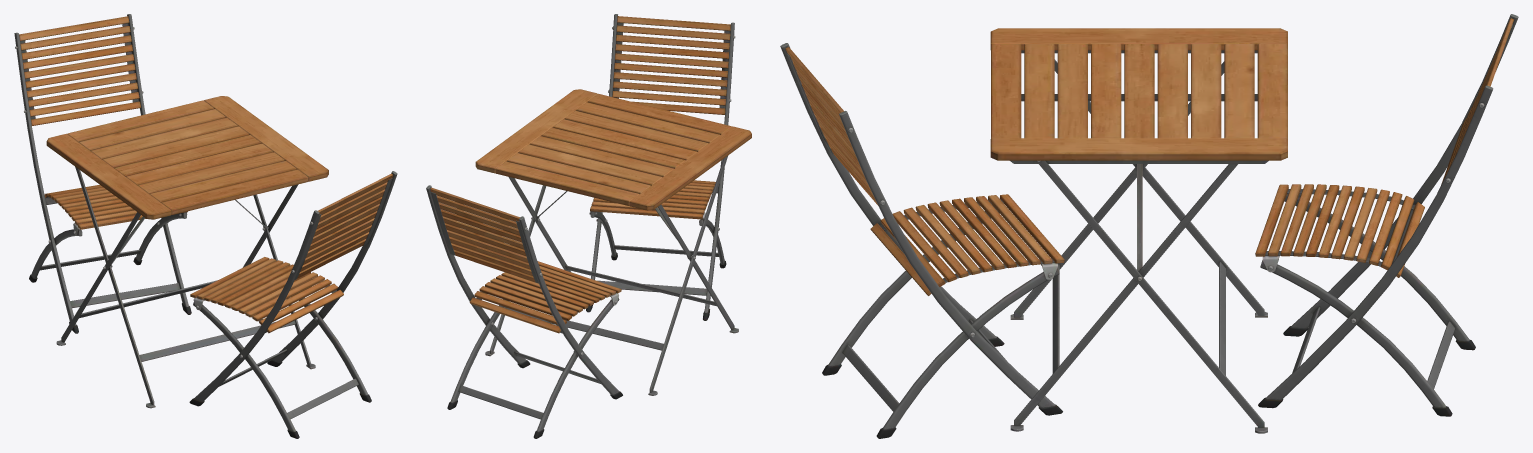
Rendered from outdoor_table_chair_set_01.glb.
3 views of the same model, side by side, from view 1: azimuth 30°, elevation 25°; view 2: azimuth 150°, elevation 25°; view 3: azimuth 270°, elevation 25° (orthographic). The views are drawn at different scales.
Visible parts, largest first — view 1: outdoor_table_chair_set_01_chair_01, outdoor_table_chair_set_01_table; view 2: outdoor_table_chair_set_01_chair_01, outdoor_table_chair_set_01_table; view 3: outdoor_table_chair_set_01_table, outdoor_table_chair_set_01_chair_01.
Part boxes in pixels (x1,y1,x2,y2): outdoor_table_chair_set_01_chair_01: (14,14,397,438); outdoor_table_chair_set_01_table: (46,96,328,408); outdoor_table_chair_set_01_chair_01: (426,14,735,438); outdoor_table_chair_set_01_table: (475,89,751,395); outdoor_table_chair_set_01_table: (990,28,1287,433); outdoor_table_chair_set_01_chair_01: (780,14,1518,438).
Bounding box in the file's own units: 0.7417 × 0.8587 × 1.72.
2 materials, 2 textured.
